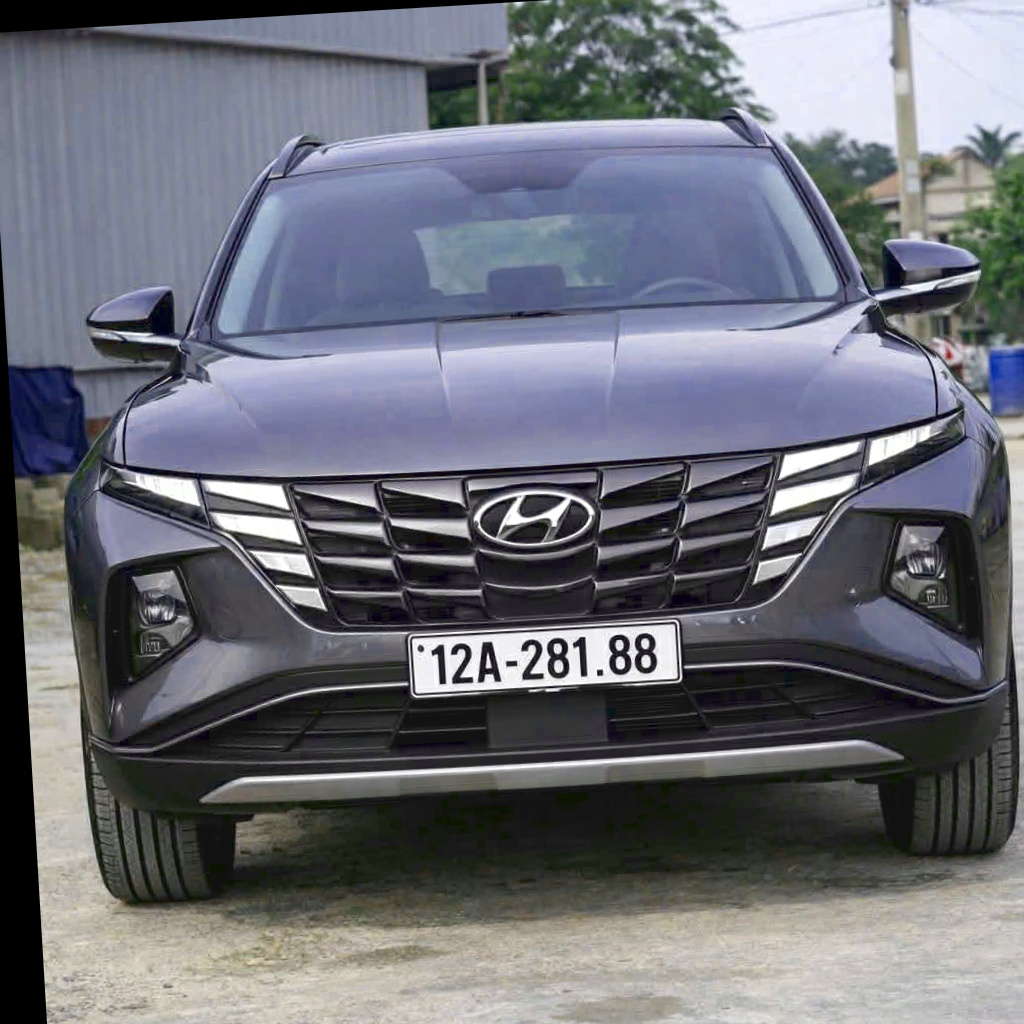Bien-so: (402, 615, 692, 700)
